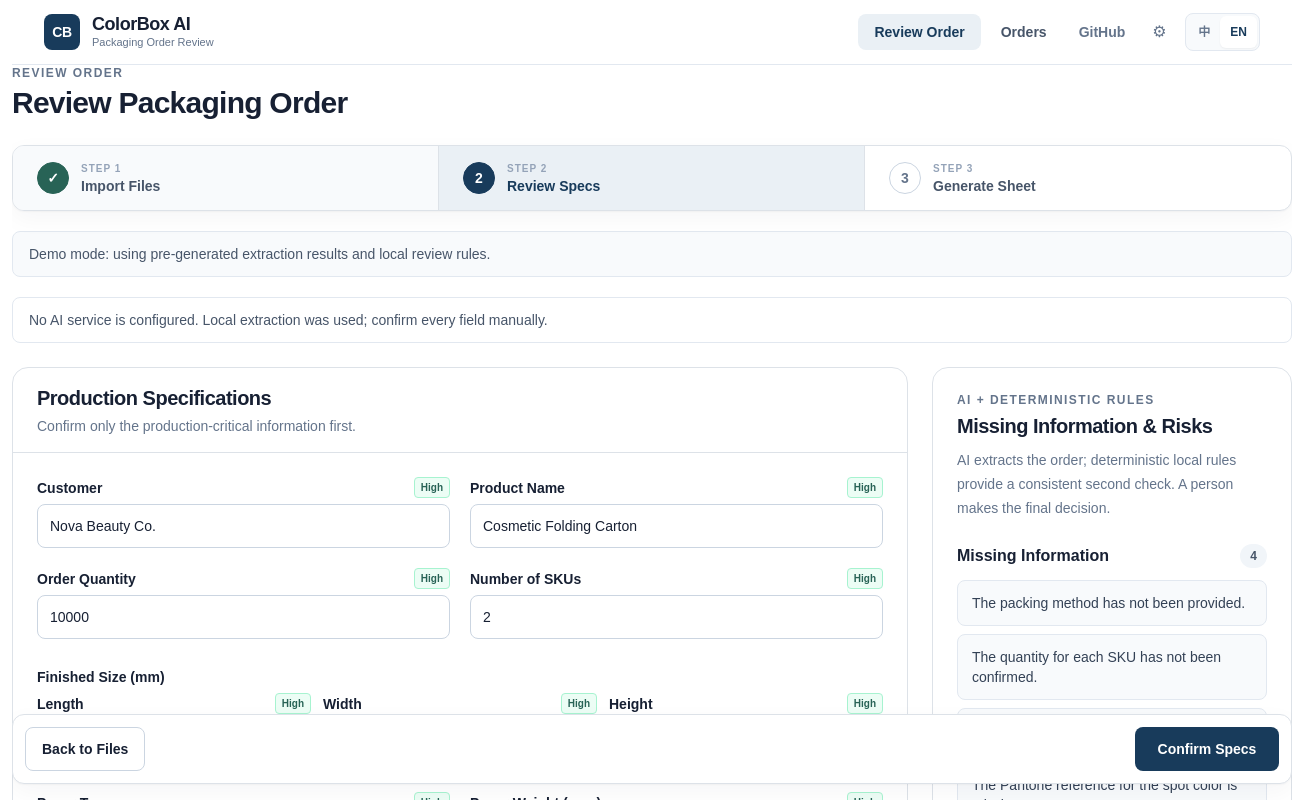
Test: Public Demo Generate Sheet interaction › uses the server-provided publicDemo value when NEXT_PUBLIC_DEMO_MODE is false
The width and height of the screenshot is (1292, 800).
Expected: the field showing "Nova Beauty Co." is shown, [37,504,450,548]
Click the button "Confirm Specs" at (1207, 749), box [1135,727,1279,771]
(page scrolled)
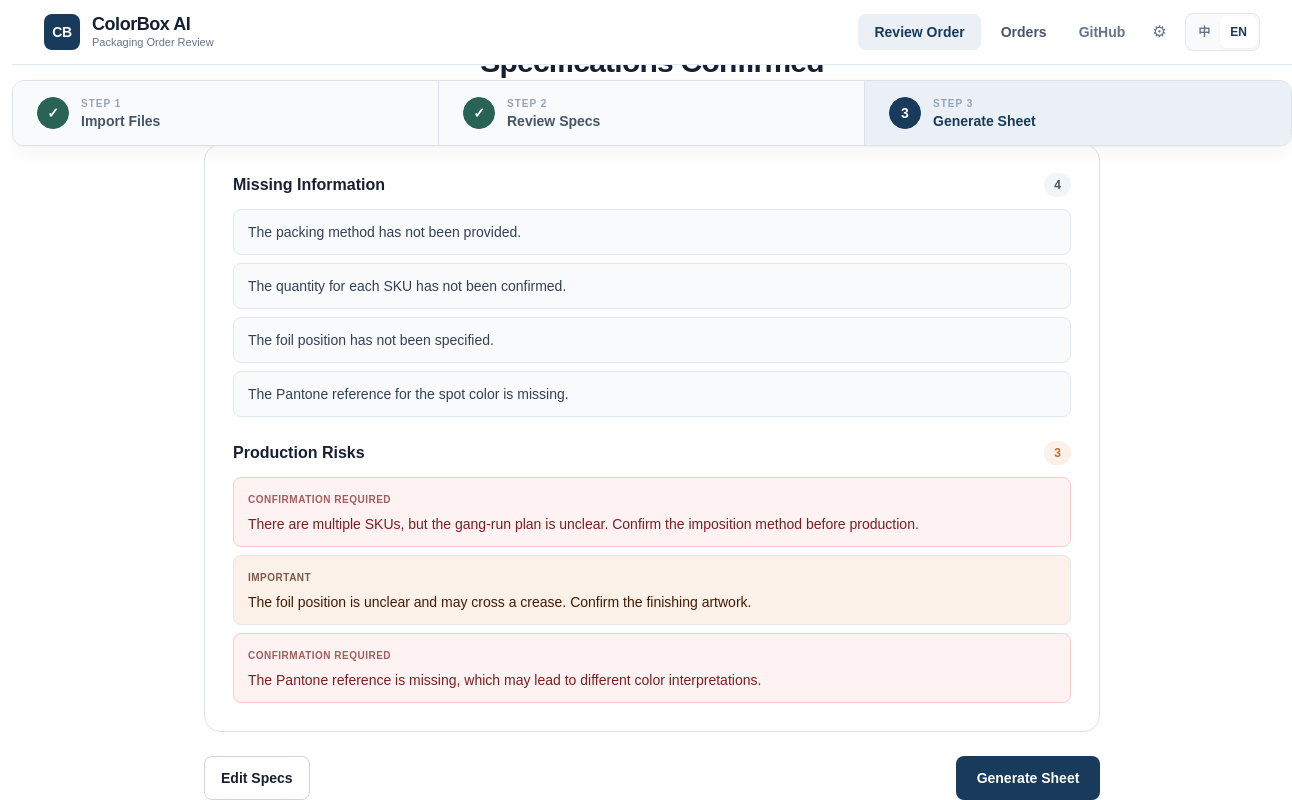
Now the heading "Specifications Confirmed" is shown, box [480,45,824,78]
Click the button "Generate Sheet" at (1028, 778), box [956,756,1100,799]
(page scrolled)
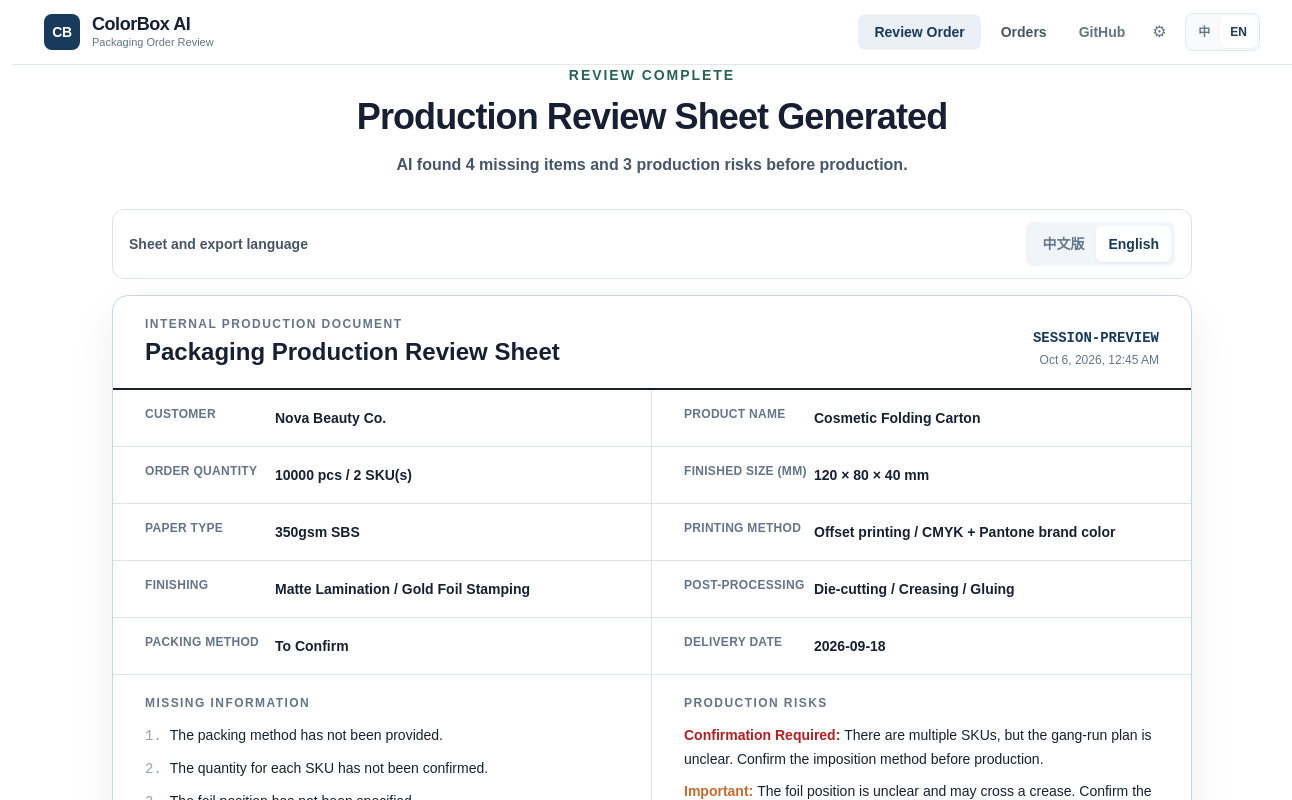
Now the heading "Production Review Sheet Generated" is shown, box [357,96,947,137]
Now the text "SESSION-PREVIEW" is shown, box [1033,328,1159,348]
